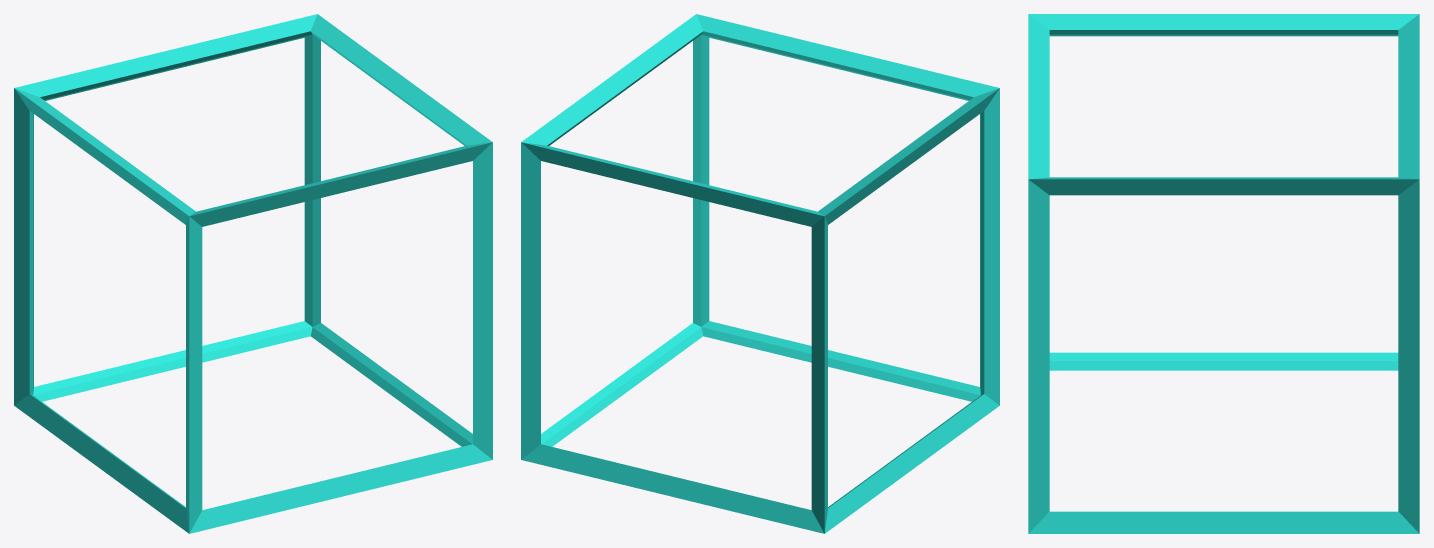
Rendered from Wireframe.fbx.
3 views of the same model, side by side, from view 1: azimuth 30°, elevation 25°; view 2: azimuth 150°, elevation 25°; view 3: azimuth 270°, elevation 25° (orthographic). The views are drawn at different scales.
Visible parts, largest first — view 1: Cube; view 2: Cube; view 3: Cube.
Boxes of the visible parts, x1,y1,x2,y2 form: Cube: [14, 14, 492, 533]; Cube: [521, 14, 999, 533]; Cube: [1028, 14, 1419, 533].
Bounding box in the file's own units: 208 × 208 × 208.
